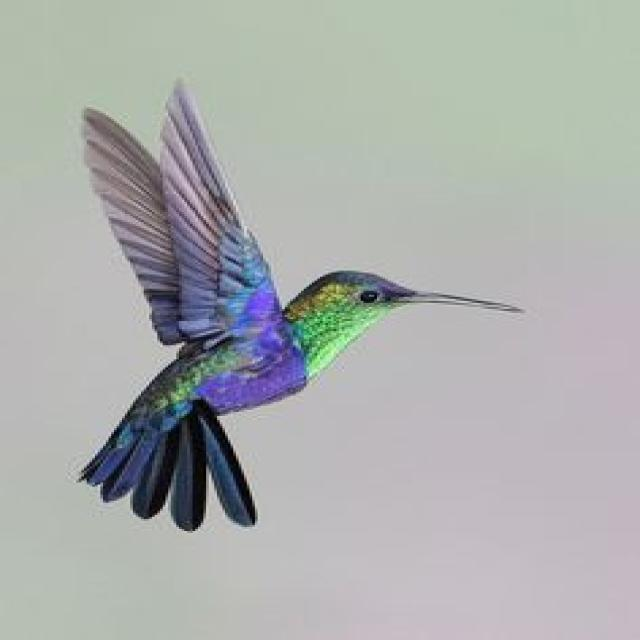Herbivorous: (79, 79, 521, 535)
